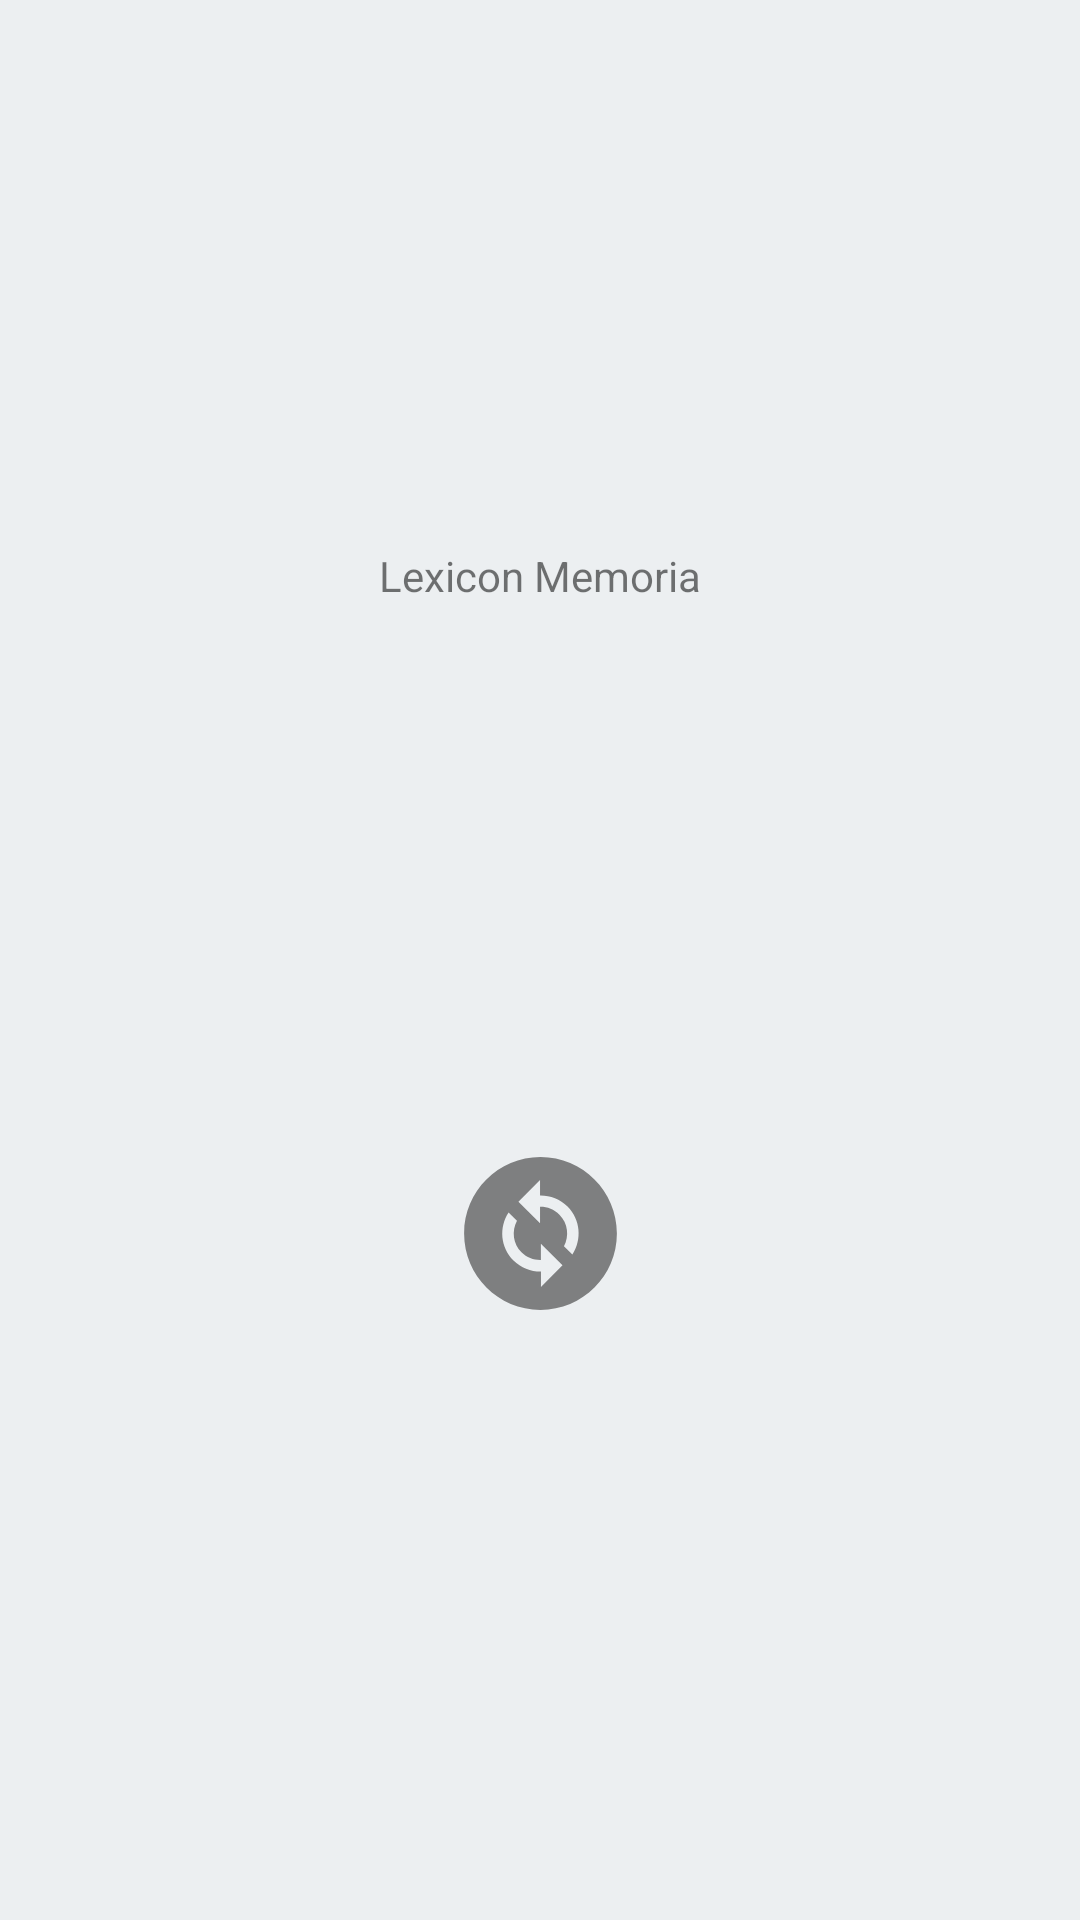

Icons on this 1080px x 1920px Android screen, each with its box as (x1, y1, x2, y2):
loading: (464, 1157, 617, 1310)
